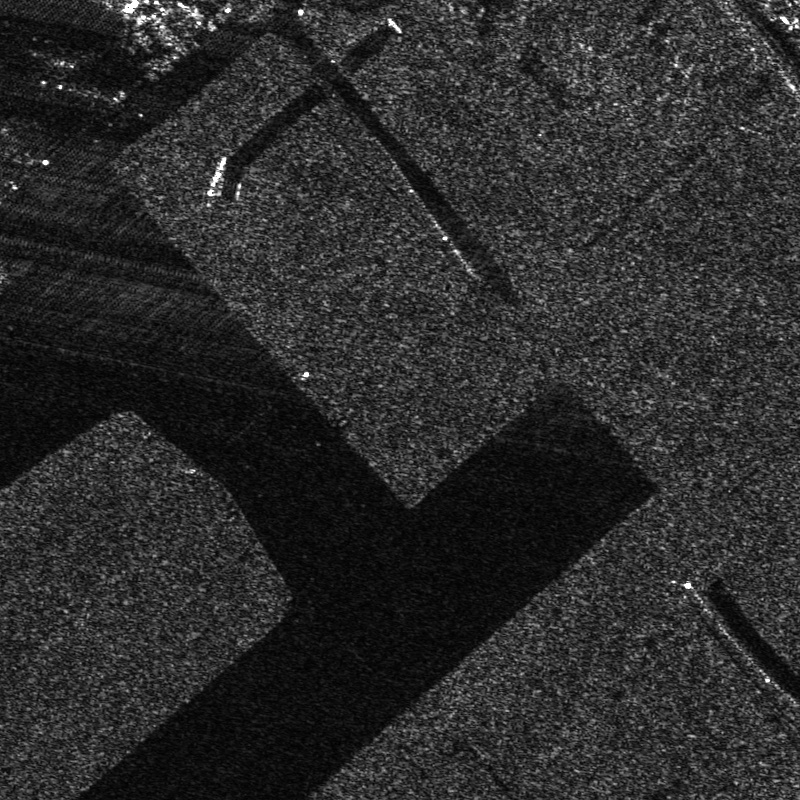Boeing737: (22, 39, 107, 101)
